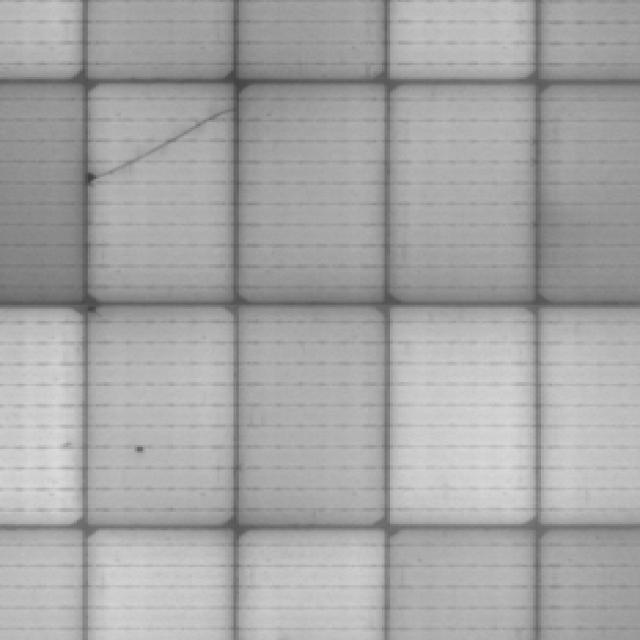CRACK: (77, 85, 238, 201)
